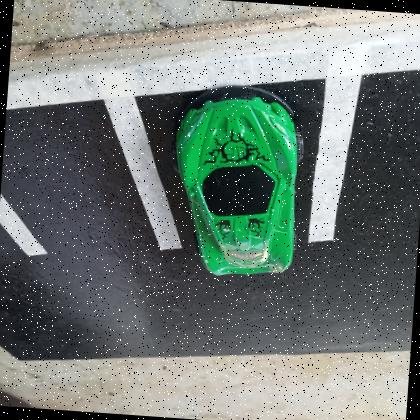Car: (174, 91, 299, 275)
